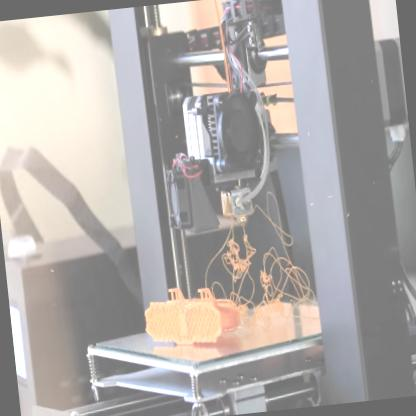fail: (214, 215, 314, 330)
